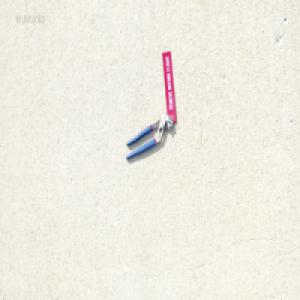Label: (160, 50, 176, 122)
Pliers: (125, 113, 173, 161)
